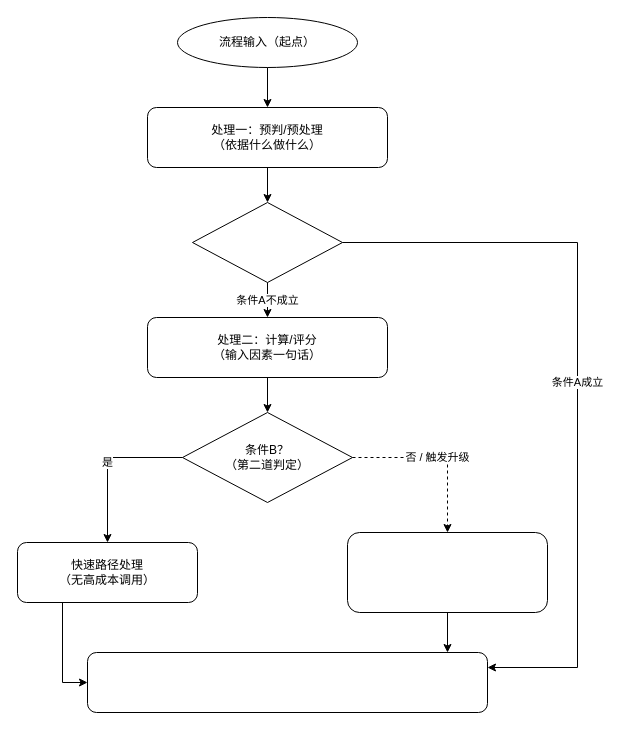
Some shapes in this 620 by 730 pixel diagram are drawn without their labels. Each missing label, with the centre of its shape:
"处理结果：三种去向说明 （判据c：异常升级条件）" belongs at point 287,682.
"完整路径处理 （读取上下文， 输出结论并存档）" belongs at point 447,572.
"条件A？" belongs at point 267,242.
